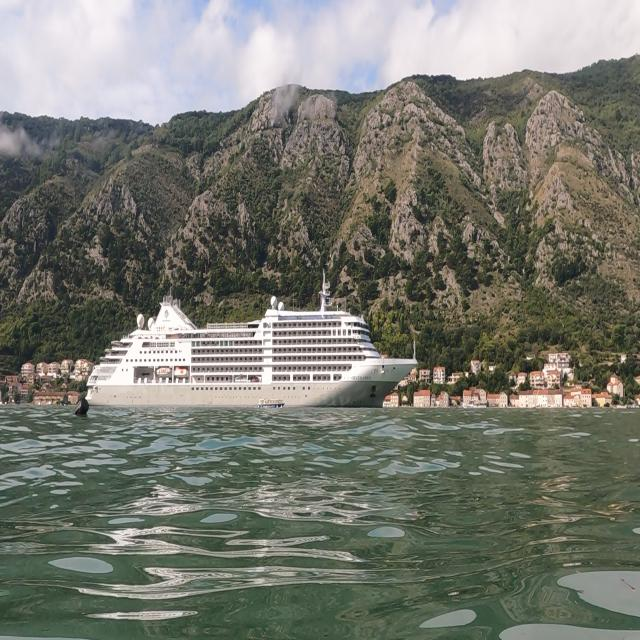boat: (81, 265, 420, 412)
buoy: (66, 390, 92, 424)
